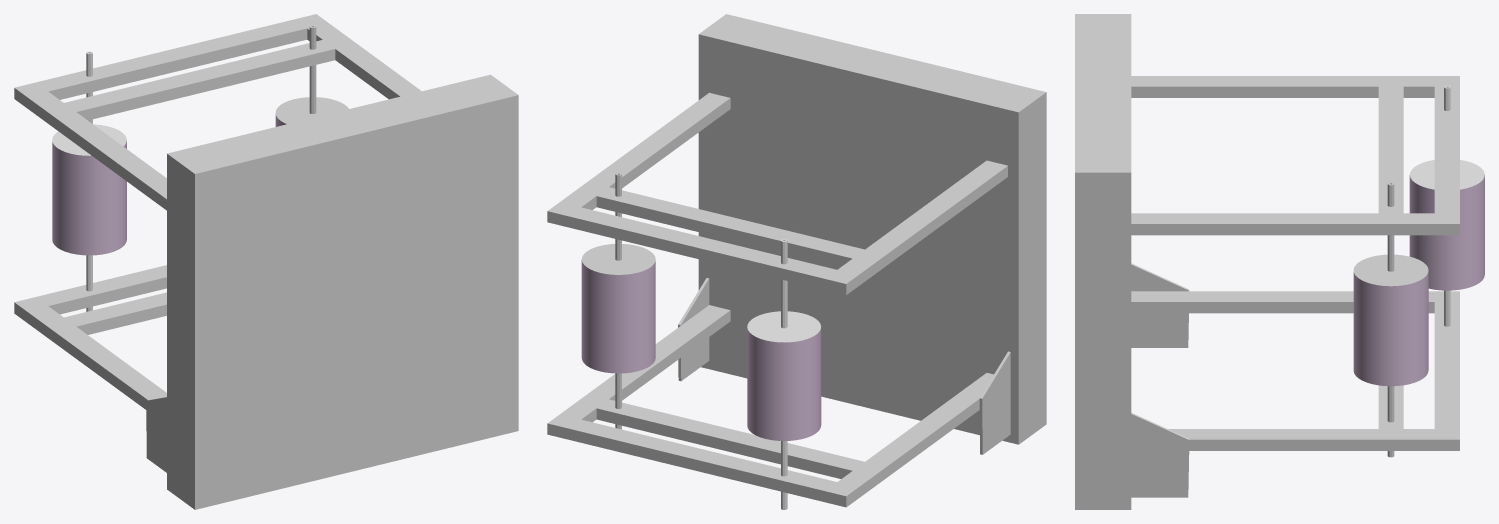
The picture shows the model from 3 angles, left to right: view 1: azimuth 30°, elevation 25°; view 2: azimuth 150°, elevation 25°; view 3: azimuth 270°, elevation 25°; orthographic projection.
Visible parts, largest first — view 1: Part 1, Part 6, Part 7; view 2: Part 1, Part 6, Part 7; view 3: Part 1, Part 7, Part 6.
Boxes of the visible parts, left/top/right/bottom form: Part 1: left=14, top=14, right=518, bottom=509; Part 6: left=52, top=51, right=126, bottom=311; Part 7: left=275, top=25, right=348, bottom=126; Part 1: left=547, top=14, right=1046, bottom=507; Part 6: left=747, top=239, right=821, bottom=509; Part 7: left=581, top=173, right=655, bottom=429; Part 1: left=1075, top=14, right=1459, bottom=509; Part 7: left=1353, top=182, right=1428, bottom=457; Part 6: left=1409, top=85, right=1484, bottom=326.
Size of the model in its own units: 0.762 by 0.7556 by 0.8318.
